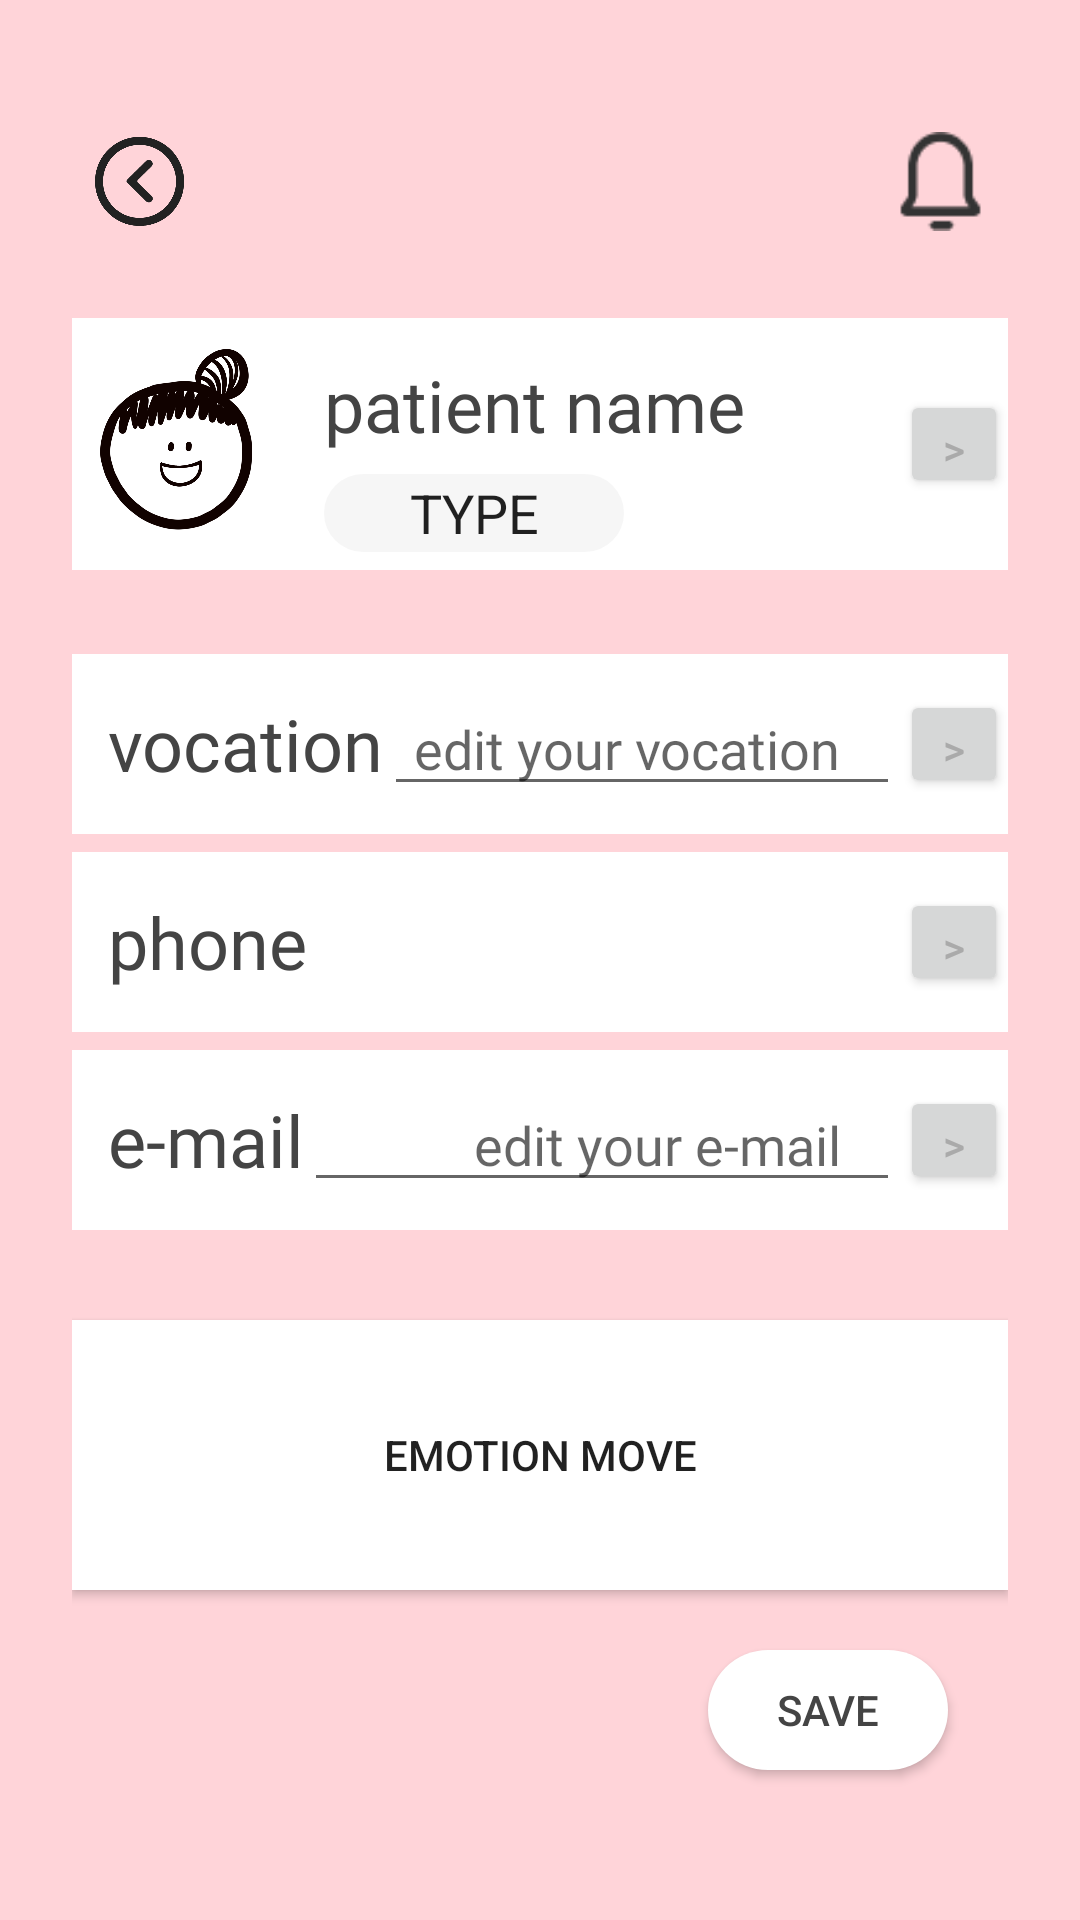

Point at icon controls on the screen. Image size 1080px×1920px, points as (x=x, y=y).
fanhui: (x=139, y=181)
happy: (x=176, y=439)
xiaoxi: (x=940, y=181)
